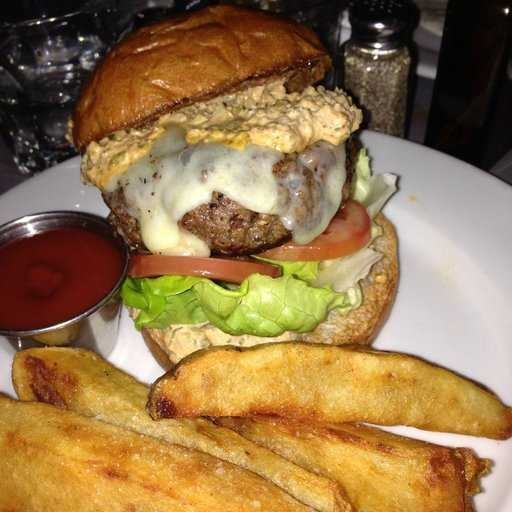hamburger: (96, 30, 398, 355)
